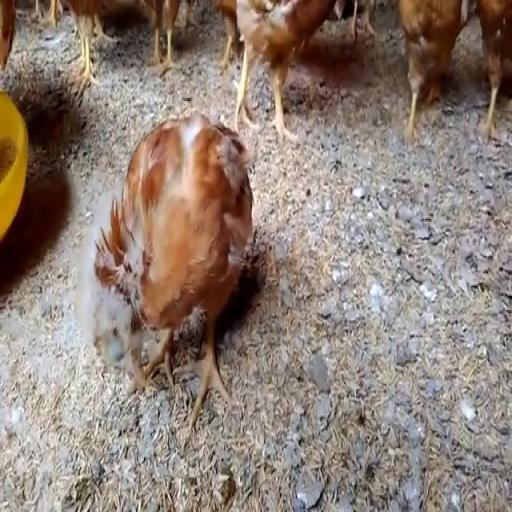disease: (92, 306, 141, 390)
